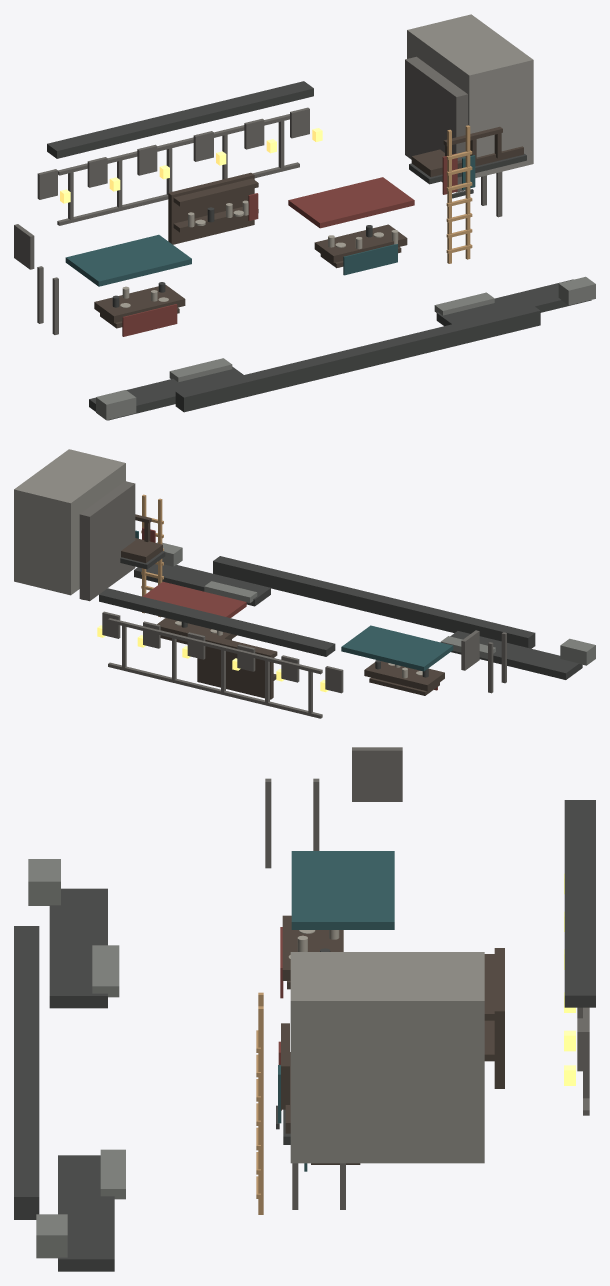
File: hd2d_market_reference_match_artpass.glb
3 renders of one model, top to bottom at view 1: azimuth 30°, elevation 25°; view 2: azimuth 150°, elevation 25°; view 3: azimuth 270°, elevation 25°, orthographic. The views are drawn at different scales.
Visible parts, largest first — view 1: RightTowerUpperMass, ForegroundLowWallArtpassCenter, RightTowerSideButtress, WallTrimBackEaveShadow, StallClusterA_Canopy, StallClusterB_Canopy, StallClusterC_BackRack, ForegroundStepArtpassRightA, ForegroundStepArtpassLeftA, StallClusterA_TableTop, StallClusterB_TableTop, StallClusterA_FabricDrop (+20 smaller); view 2: RightTowerUpperMass, ForegroundLowWallArtpassCenter, RightTowerSideButtress, WallTrimBackEaveShadow, StallClusterA_Canopy, StallClusterC_BackRack, ForegroundStepArtpassLeftA, StallClusterB_Canopy, ForegroundStepArtpassRightA, StallClusterA_TableTop, WallTrimBackHorizontalUpper, WallTrimBackHorizontalLower (+13 smaller); view 3: RightTowerUpperMass, StallClusterA_Canopy, ForegroundLowWallArtpassCenter, WallTrimBackEaveShadow, ForegroundStepArtpassLeftA, ForegroundStepArtpassRightA, WindowFrameLeftUpper, StallClusterC_BackRack, ForegroundLowWallCornerStoneA, StallClusterA_TableTop, ForegroundLowWallCornerStoneB, ForegroundStepArtpassLeftB (+3 smaller).
Boxes of the visible parts, x1=… form: RightTowerUpperMass: x1=407, y1=14, x2=533, y2=177; ForegroundLowWallArtpassCenter: x1=175, y1=304, x2=540, y2=412; RightTowerSideButtress: x1=405, y1=56, x2=467, y2=192; WallTrimBackEaveShadow: x1=47, y1=81, x2=313, y2=158; StallClusterA_Canopy: x1=65, y1=234, x2=191, y2=286; StallClusterB_Canopy: x1=288, y1=177, x2=414, y2=228; StallClusterC_BackRack: x1=168, y1=172, x2=254, y2=244; ForegroundStepArtpassRightA: x1=436, y1=279, x2=591, y2=325; ForegroundStepArtpassLeftA: x1=89, y1=366, x2=243, y2=420; StallClusterA_TableTop: x1=94, y1=284, x2=185, y2=322; StallClusterB_TableTop: x1=314, y1=224, x2=407, y2=262; StallClusterA_FabricDrop: x1=122, y1=304, x2=177, y2=336; RightTowerUpperMass: x1=14, y1=449, x2=125, y2=595; ForegroundLowWallArtpassCenter: x1=213, y1=556, x2=535, y2=648; RightTowerSideButtress: x1=79, y1=481, x2=135, y2=601; WallTrimBackEaveShadow: x1=99, y1=588, x2=335, y2=656; StallClusterA_Canopy: x1=341, y1=625, x2=453, y2=671; StallClusterC_BackRack: x1=197, y1=637, x2=273, y2=699; ForegroundStepArtpassLeftA: x1=450, y1=631, x2=582, y2=679; StallClusterB_Canopy: x1=143, y1=581, x2=246, y2=617; ForegroundStepArtpassRightA: x1=134, y1=564, x2=270, y2=606; StallClusterA_TableTop: x1=364, y1=661, x2=444, y2=691; WallTrimBackHorizontalUpper: x1=108, y1=618, x2=322, y2=674; WallTrimBackHorizontalLower: x1=108, y1=662, x2=322, y2=718; RightTowerUpperMass: x1=290, y1=952, x2=484, y2=1163; StallClusterA_Canopy: x1=291, y1=851, x2=394, y2=929; ForegroundLowWallArtpassCenter: x1=14, y1=926, x2=39, y2=1219; WallTrimBackEaveShadow: x1=564, y1=800, x2=595, y2=1007; ForegroundStepArtpassLeftA: x1=49, y1=888, x2=107, y2=1008; ForegroundStepArtpassRightA: x1=58, y1=1155, x2=114, y2=1271; WindowFrameLeftUpper: x1=352, y1=747, x2=402, y2=801; StallClusterC_BackRack: x1=494, y1=948, x2=504, y2=1088; ForegroundLowWallCornerStoneA: x1=28, y1=859, x2=60, y2=905; StallClusterA_TableTop: x1=282, y1=915, x2=343, y2=980; ForegroundLowWallCornerStoneB: x1=36, y1=1214, x2=67, y2=1258; ForegroundStepArtpassLeftB: x1=92, y1=945, x2=119, y2=997.
Bounding box in the file's own units: 12.34 × 4.19 × 7.8.
